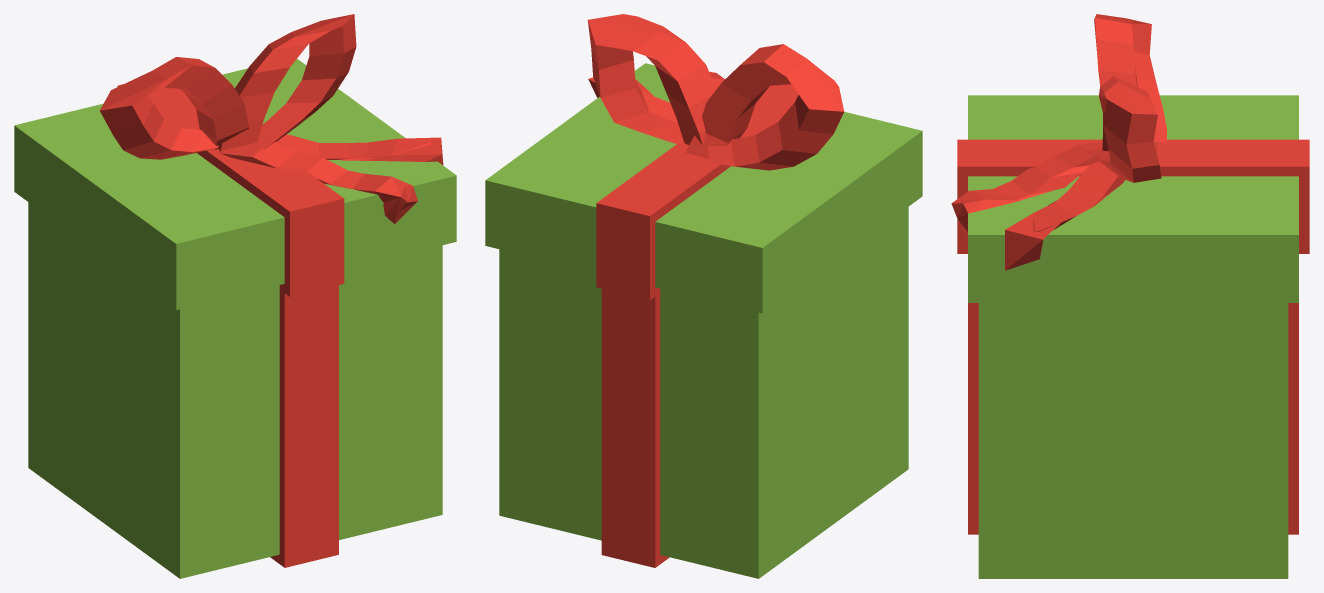
Rendered from gift.fbx.
The picture shows the model from 3 angles, left to right: view 1: azimuth 30°, elevation 25°; view 2: azimuth 150°, elevation 25°; view 3: azimuth 270°, elevation 25°; orthographic projection. The views are drawn at different scales.
Parts seen in each view (by area): view 1: mesh_1825353473, mesh_406686858, mesh_1147558696, group_656997080, group_1580891595, mesh_2126718115, mesh_948464346, group_1985784559, group_942708738, mesh_924027111; view 2: mesh_1825353473, mesh_406686858, mesh_1936744906, group_656997080, group_1580891595, mesh_2126718115, mesh_1410314212, mesh_924027111; view 3: mesh_1825353473, mesh_406686858, mesh_2126718115, group_1580891595, group_656997080, group_942708738, group_1985784559, mesh_1936744906, mesh_1147558696, mesh_1410314212, mesh_948464346.
Part boxes in pixels (x1=…): mesh_1825353473: x1=28, y1=202, x2=442, y2=578; mesh_406686858: x1=14, y1=59, x2=456, y2=310; mesh_1147558696: x1=279, y1=284, x2=338, y2=558; group_656997080: x1=99, y1=57, x2=248, y2=159; group_1580891595: x1=219, y1=14, x2=356, y2=152; mesh_2126718115: x1=117, y1=84, x2=344, y2=221; mesh_948464346: x1=284, y1=208, x2=344, y2=296; group_1985784559: x1=221, y1=142, x2=417, y2=223; group_942708738: x1=276, y1=134, x2=443, y2=165; mesh_924027111: x1=270, y1=545, x2=338, y2=567; mesh_1825353473: x1=499, y1=207, x2=908, y2=578; mesh_406686858: x1=485, y1=63, x2=922, y2=313; mesh_1936744906: x1=601, y1=287, x2=660, y2=558; group_656997080: x1=685, y1=44, x2=844, y2=170; group_1580891595: x1=587, y1=14, x2=716, y2=145; mesh_2126718115: x1=596, y1=84, x2=798, y2=225; mesh_1410314212: x1=596, y1=212, x2=655, y2=300; mesh_924027111: x1=601, y1=546, x2=669, y2=567; mesh_1825353473: x1=978, y1=303, x2=1288, y2=578; mesh_406686858: x1=968, y1=95, x2=1298, y2=302; mesh_2126718115: x1=957, y1=139, x2=1309, y2=176; group_1580891595: x1=1085, y1=76, x2=1161, y2=182; group_656997080: x1=1094, y1=14, x2=1166, y2=154; group_942708738: x1=1005, y1=161, x2=1124, y2=270; group_1985784559: x1=951, y1=142, x2=1102, y2=237; mesh_1936744906: x1=1288, y1=303, x2=1298, y2=524; mesh_1147558696: x1=968, y1=303, x2=978, y2=524; mesh_1410314212: x1=1299, y1=176, x2=1309, y2=253; mesh_948464346: x1=957, y1=176, x2=967, y2=253.
Size of the model in its own units: 33.34 by 49.06 by 33.54.
